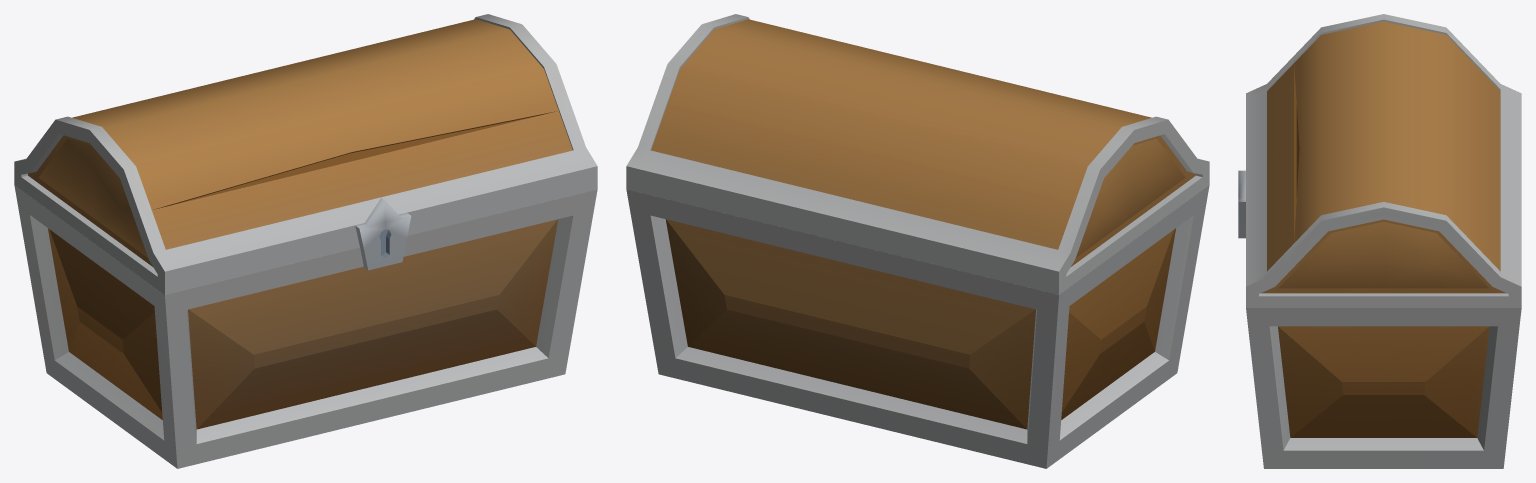
Rendered from treasure closed.FBX.
3 renders of one model, left to right at view 1: azimuth 30°, elevation 25°; view 2: azimuth 150°, elevation 25°; view 3: azimuth 270°, elevation 25°, orthographic. The views are drawn at different scales.
Parts seen in each view (by area): view 1: Box021; view 2: Box021; view 3: Box021.
Boxes of the visible parts, left/top/right/bottom form: Box021: left=14, top=14, right=597, bottom=468; Box021: left=626, top=14, right=1209, bottom=468; Box021: left=1238, top=14, right=1521, bottom=468.
Bounding box in the file's own units: 167 × 104 × 110.
